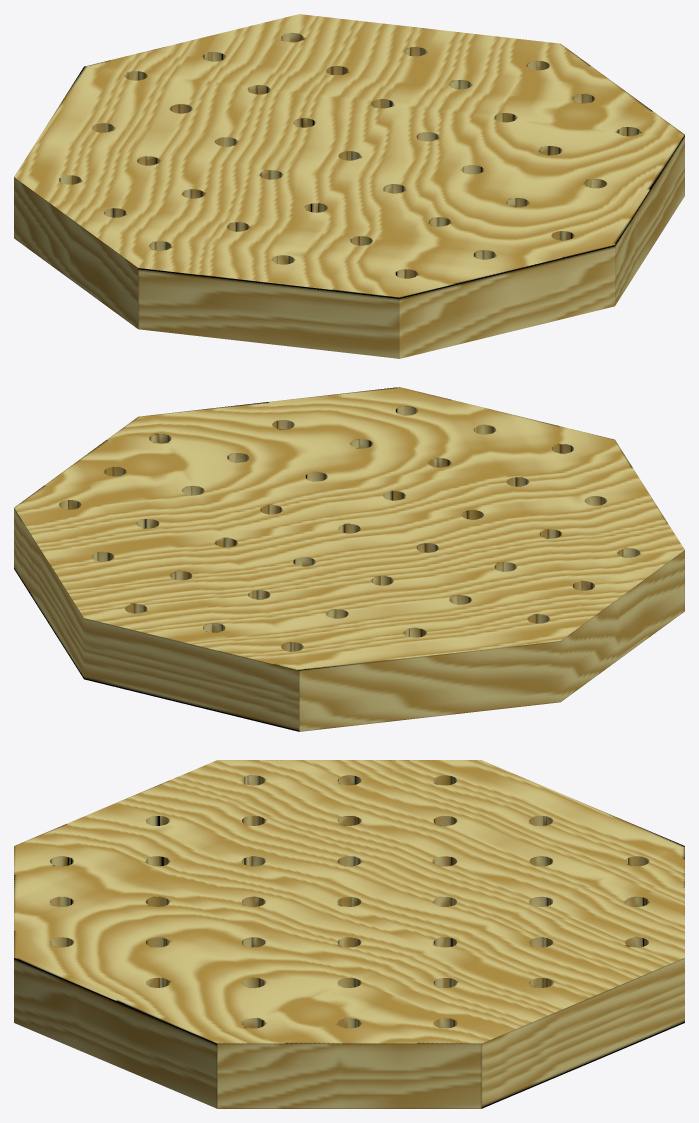
The model's file is peg_board_european.FBX.
3 views of the same model, one above another, from view 1: azimuth 30°, elevation 25°; view 2: azimuth 150°, elevation 25°; view 3: azimuth 270°, elevation 25° (orthographic). The views are drawn at different scales.
Parts seen in each view (by area): view 1: Box002; view 2: Box002; view 3: Box002.
Part boxes in pixels (<box>): Box002: <box>14,14,684,358</box>; Box002: <box>14,387,684,731</box>; Box002: <box>14,760,684,1108</box>.
Bounding box in the file's own units: 112 × 12 × 112.
1 material, 1 textured.
